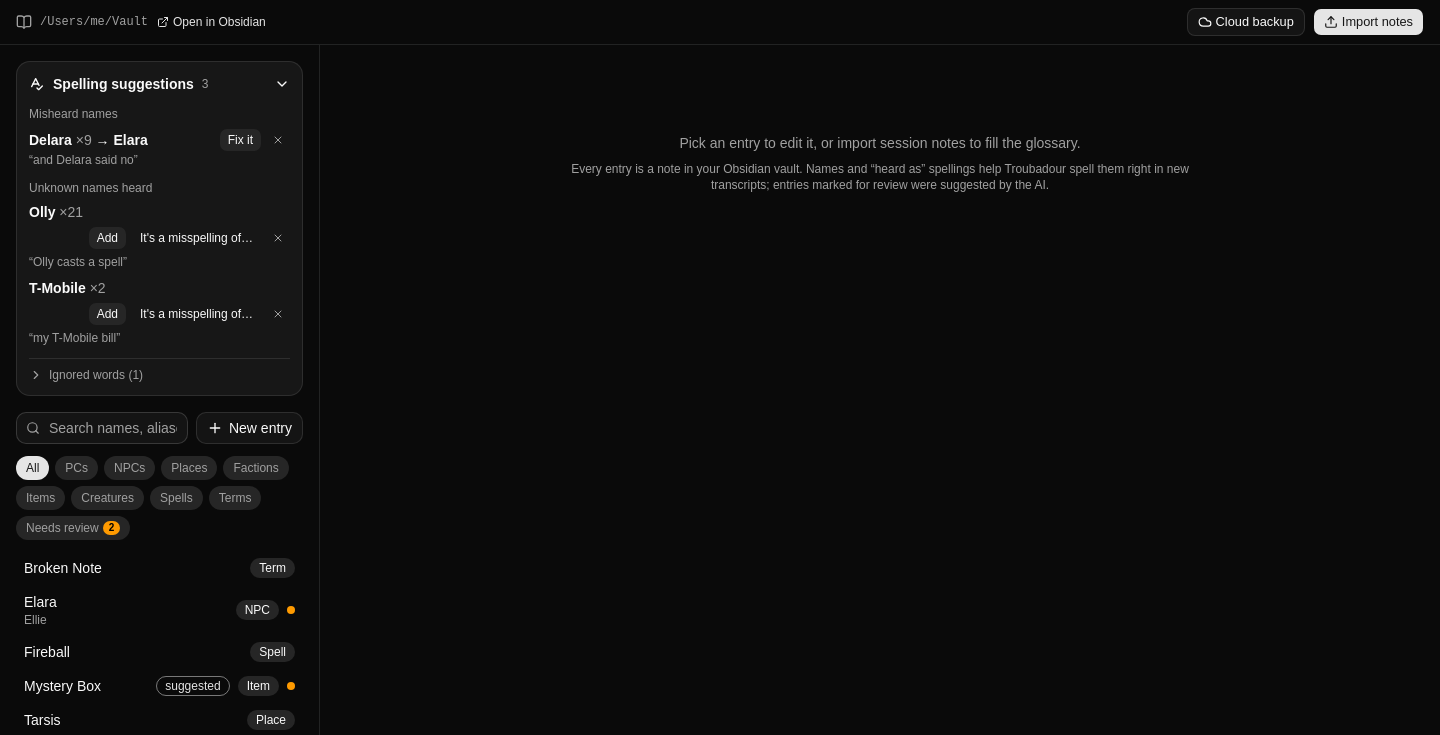
Test case: glossary list › creates an entry and selects it
Click the button "New entry". click: (250, 428)
box: [196, 412, 303, 444]
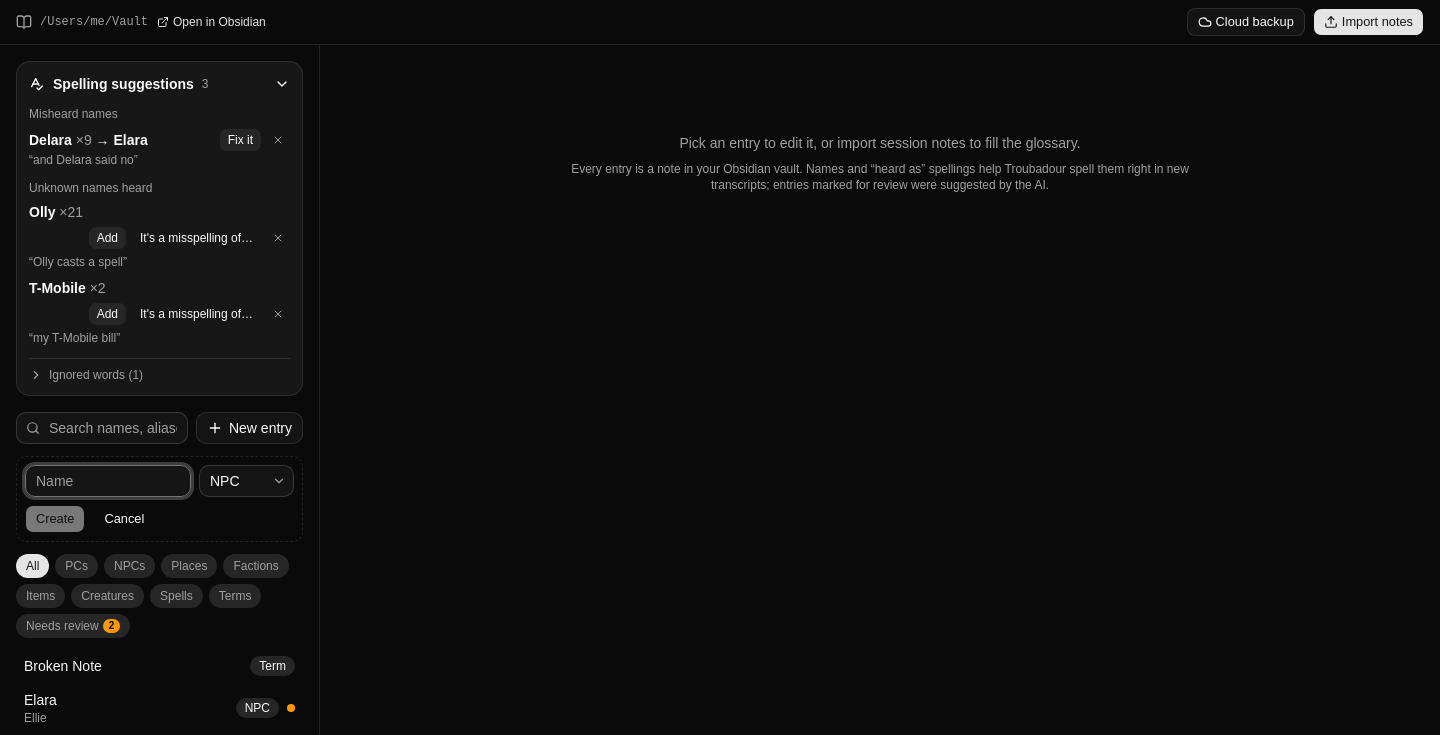
Type "Gorm" into the field named "Entry name". click: (108, 481)
box: [25, 465, 191, 497]
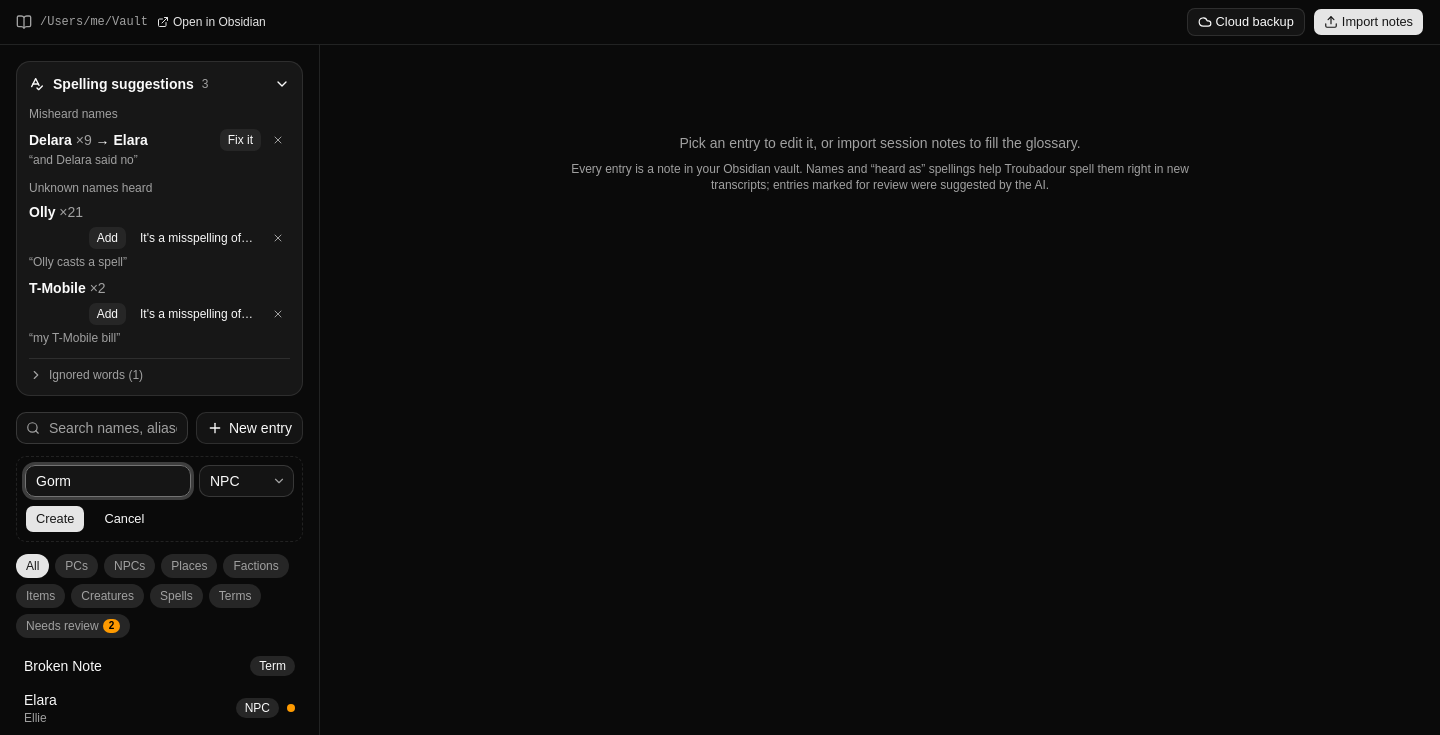
Select "PC" in the dropdown named "Entry type". click: (246, 481)
box: [199, 465, 294, 497]
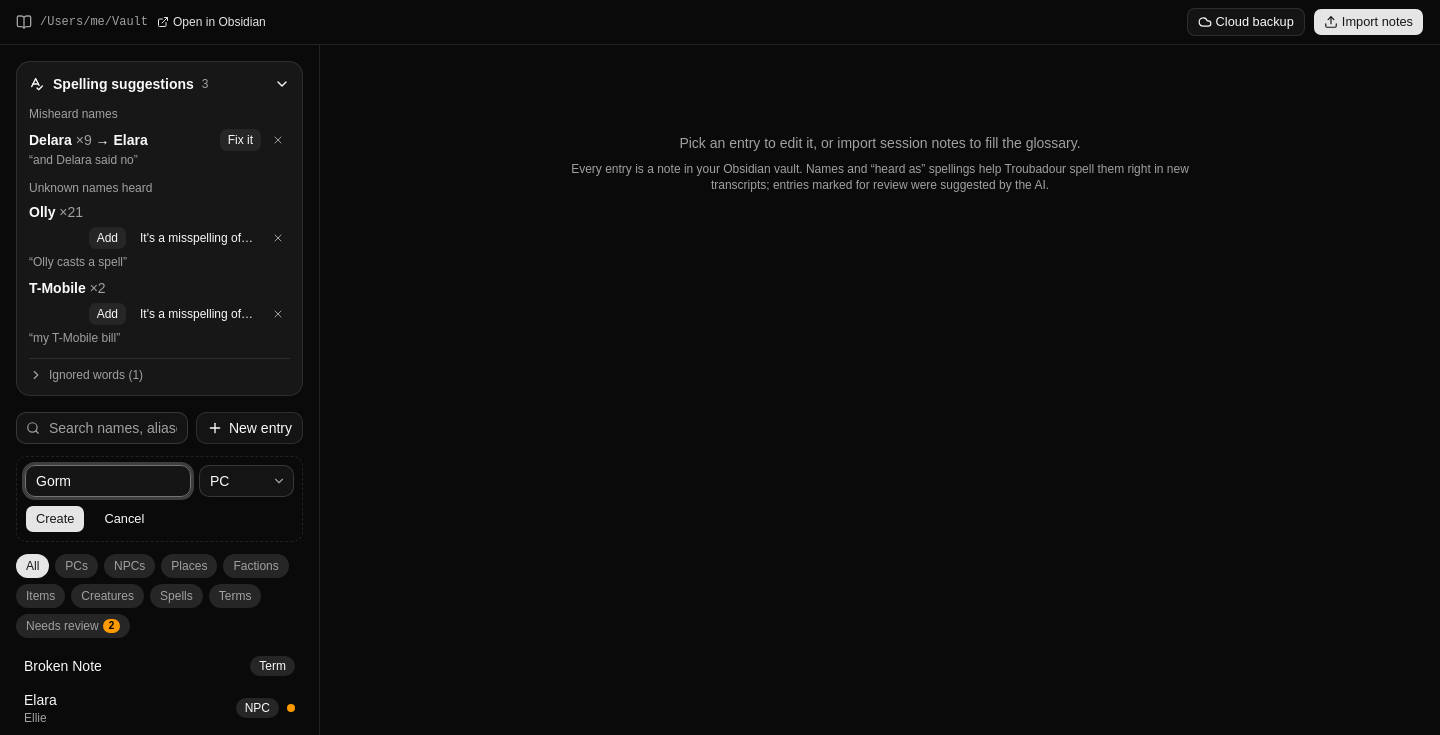
Click the button "Create". click: (55, 519)
box: [25, 505, 85, 533]
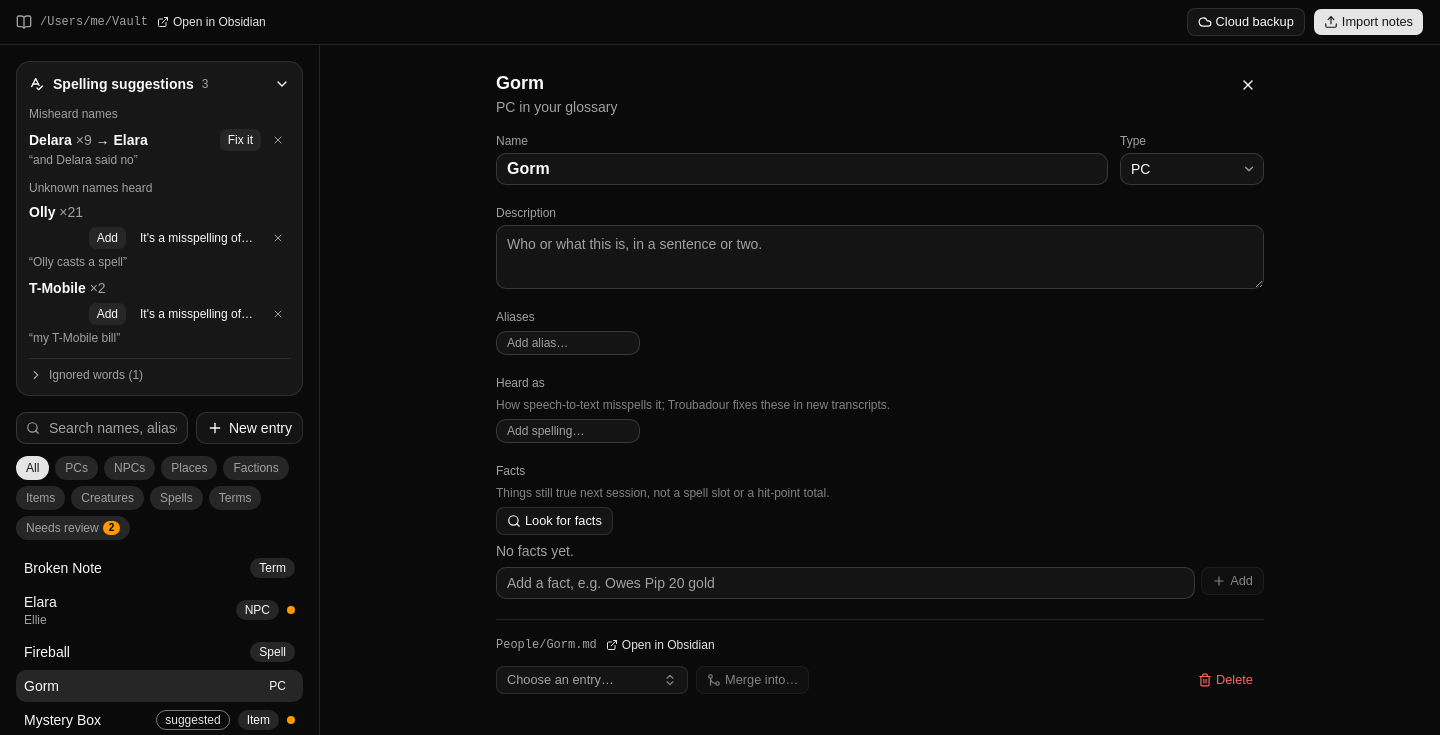
Check: the field labelled "Name" holds "Gorm", box [496, 153, 1108, 185]
